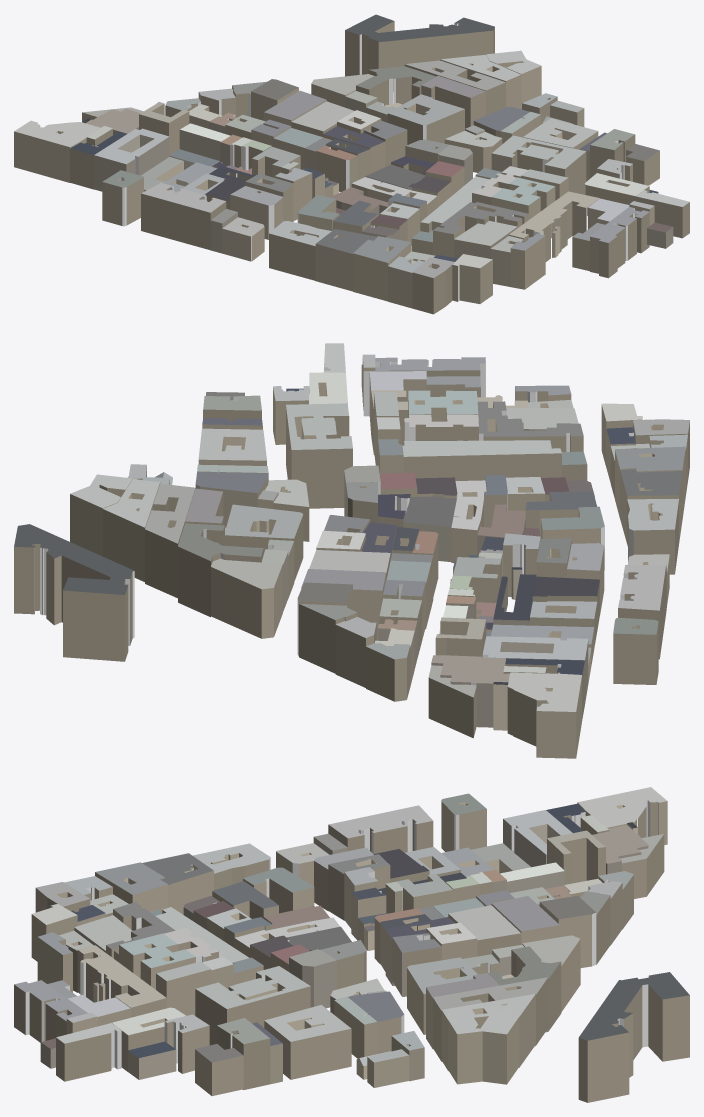
3 renders of one model, top to bottom at view 1: azimuth 30°, elevation 25°; view 2: azimuth 150°, elevation 25°; view 3: azimuth 270°, elevation 25°, orthographic. The views are drawn at different scales.
Parts seen in each view (by area): view 1: tuile; view 2: tuile; view 3: tuile.
Boxes of the visible parts, left/top/right/bottom form: tuile: left=14, top=14, right=689, bottom=314; tuile: left=14, top=343, right=689, bottom=758; tuile: left=14, top=787, right=689, bottom=1102.
Bounding box in the file's own units: 273 × 29.8 × 283.
